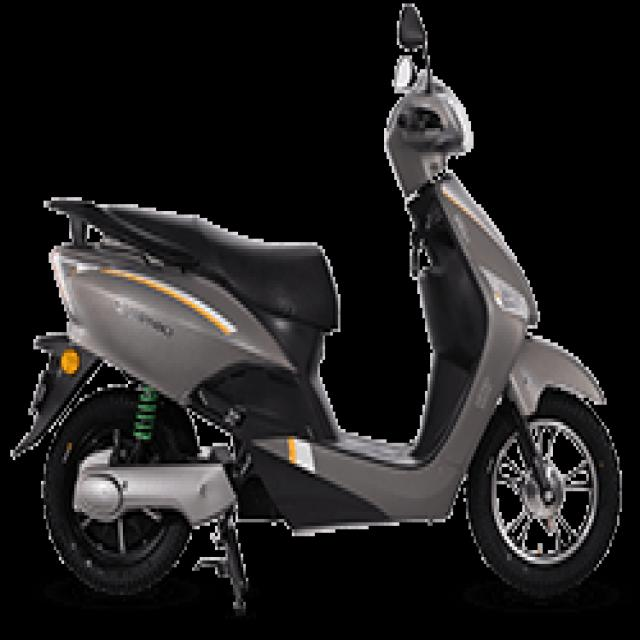bike: (11, 3, 621, 619)
